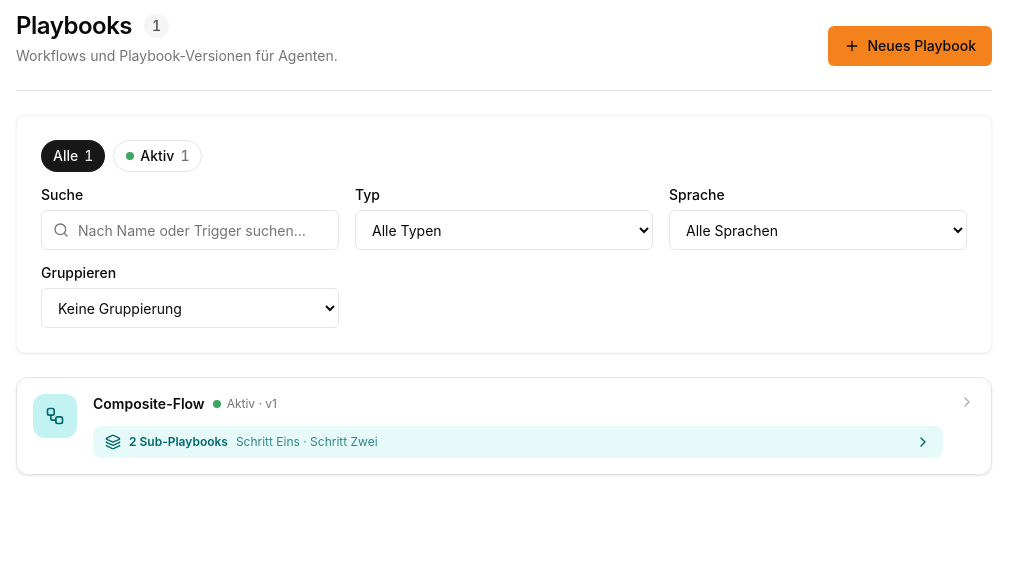
Test: PlaybooksPage › zeigt den Composite-Footer und klappt Sub-Playbooks als Links auf
This screenshot has width=1009, height=583.
Expected: the link "Composite-Flow" is shown, x1=93 y1=394 x2=205 y2=414
Click the button "2 Sub-Playbooks Schritt Eins · Schritt Zwei" at (178, 442), box x1=93 y1=426 x2=943 y2=458
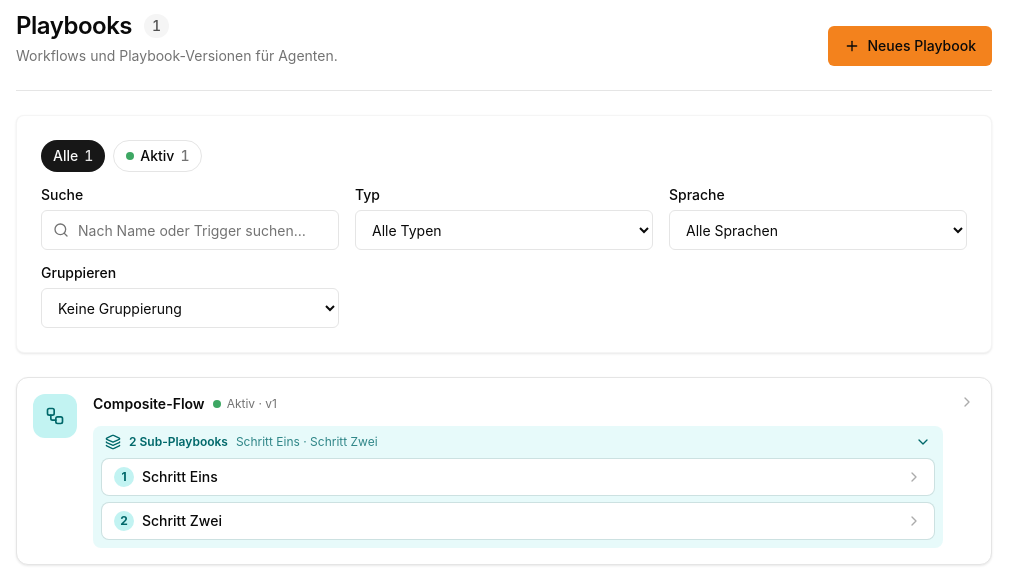
Expected: the button "2 Sub-Playbooks Schritt Eins · Schritt Zwei" is expanded, x1=93 y1=426 x2=943 y2=458
Expected: the link "1 Schritt Eins" is shown, x1=101 y1=458 x2=935 y2=496
